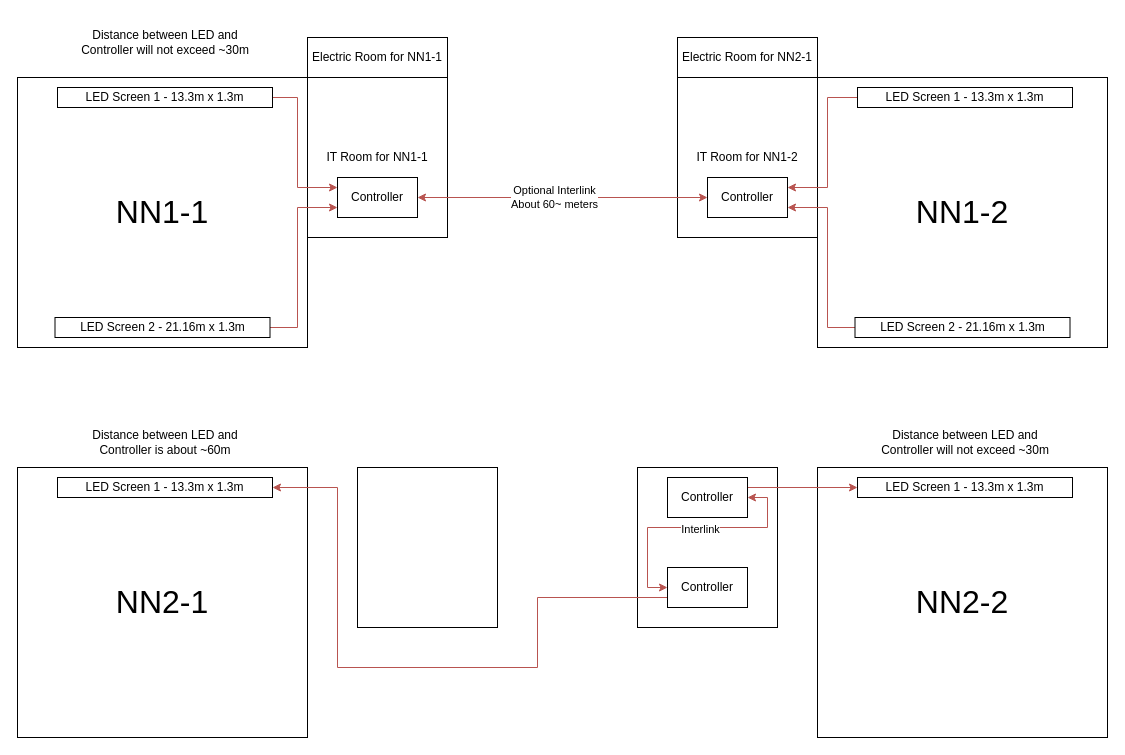
Some shapes in this 1125 by 755 pixel diagram are drawn without their labels. The box of each missing label's shape, as (x1, y1, x2, y2) in pixels:
Electric Room for NN2-1 & NN2-2: (356, 466, 498, 628)
IT Room for NN2-2 & NN2-1: (636, 466, 778, 628)
